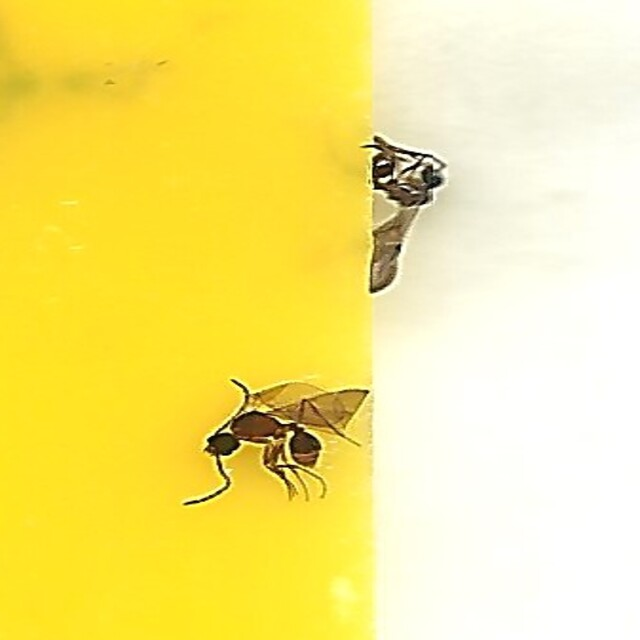Hymenoptera: (190, 377, 363, 508), (368, 132, 450, 294)
